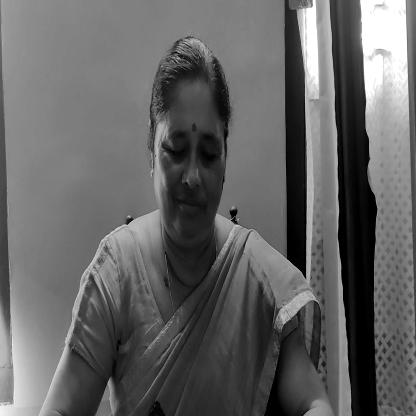Normal: (149, 38, 232, 236)
